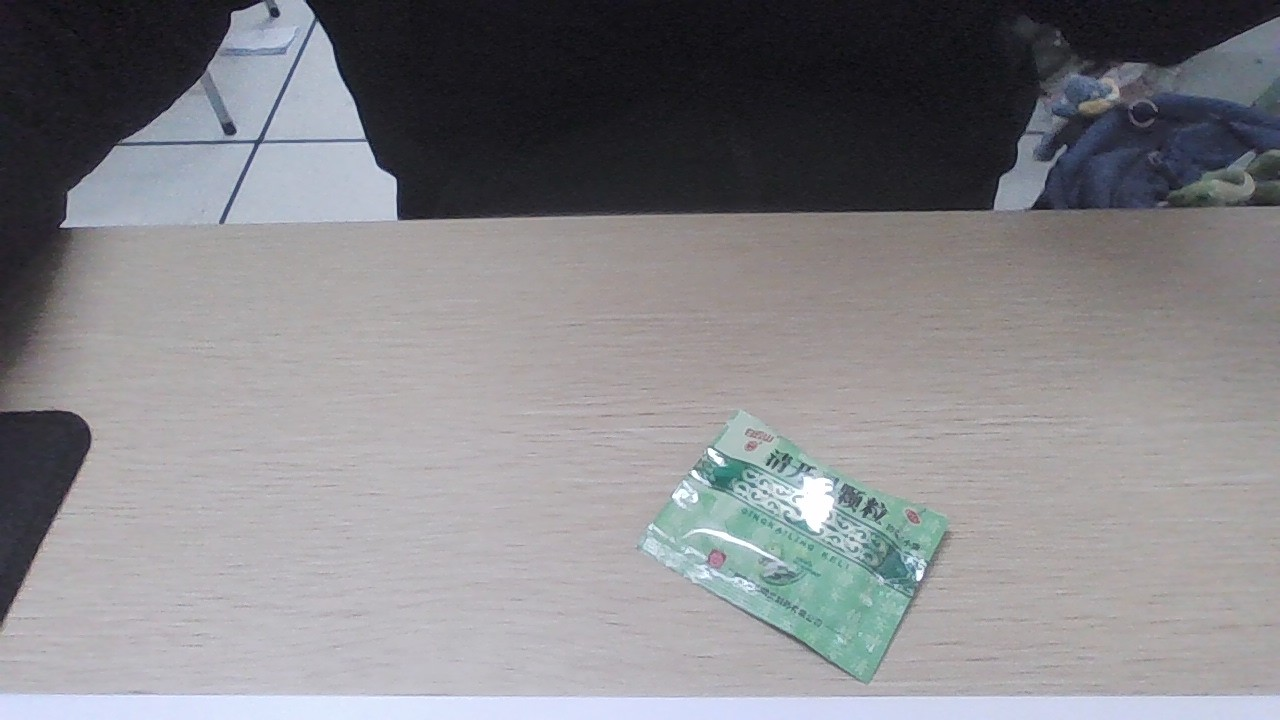YH-green medicine: (677, 437, 920, 653)
